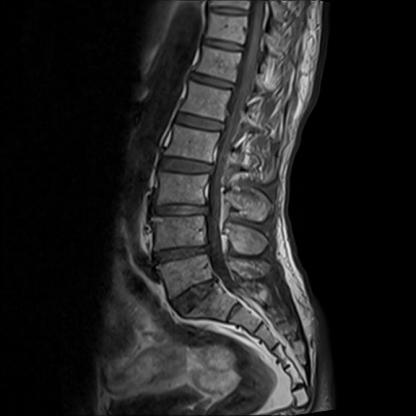Degenerative Disc Diseaserotation: (166, 282, 229, 312)
Disc Bulgerotation: (146, 200, 216, 227), (147, 241, 215, 268)
